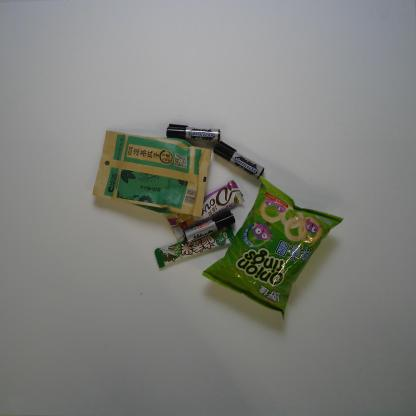Chocolate: (164, 179, 246, 239), (154, 224, 236, 270)
Dried Food: (91, 130, 212, 218)
Puffed Food: (200, 174, 344, 322)
Stationery: (212, 140, 265, 180), (182, 210, 236, 243), (165, 123, 221, 143)
